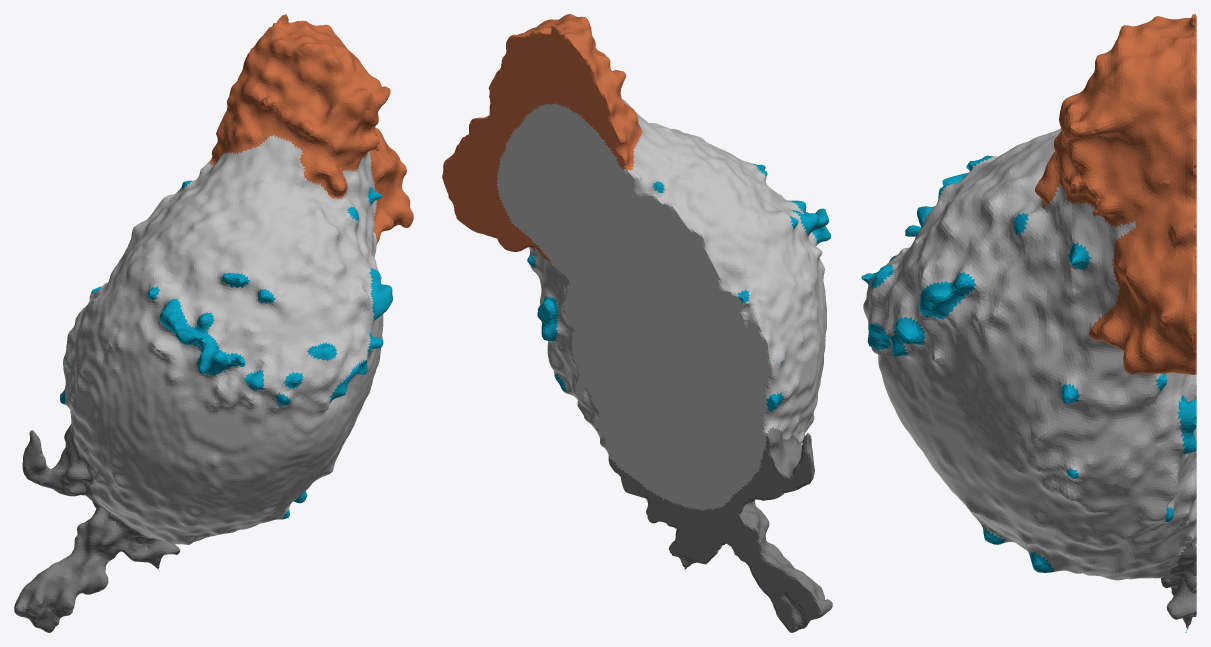
3 renders of one model, left to right at view 1: azimuth 30°, elevation 25°; view 2: azimuth 150°, elevation 25°; view 3: azimuth 270°, elevation 25°, orthographic. The views are drawn at different scales.
Size of the model in its own units: 126 by 173 by 70.19.
